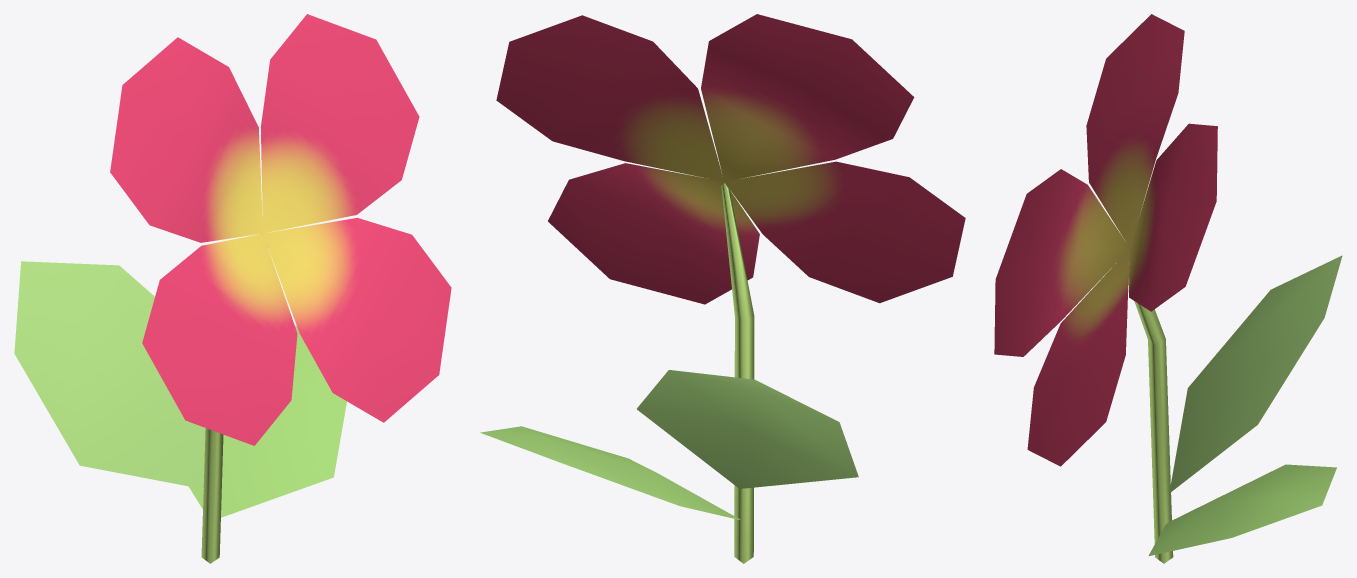
The model's file is flower5.fbx.
3 renders of one model, left to right at view 1: azimuth 30°, elevation 25°; view 2: azimuth 150°, elevation 25°; view 3: azimuth 270°, elevation 25°, orthographic. The views are drawn at different scales.
Visible parts, largest first — view 1: Flower_c_TwoS_12; view 2: Flower_c_TwoS_12; view 3: Flower_c_TwoS_12.
Boxes of the visible parts, <box> form: Flower_c_TwoS_12: <box>14,14,451,563</box>; Flower_c_TwoS_12: <box>480,14,965,563</box>; Flower_c_TwoS_12: <box>994,14,1342,563</box>.
Size of the model in its own units: 23.27 by 27.82 by 38.19.
Materials: 1 (1 with a texture image).
